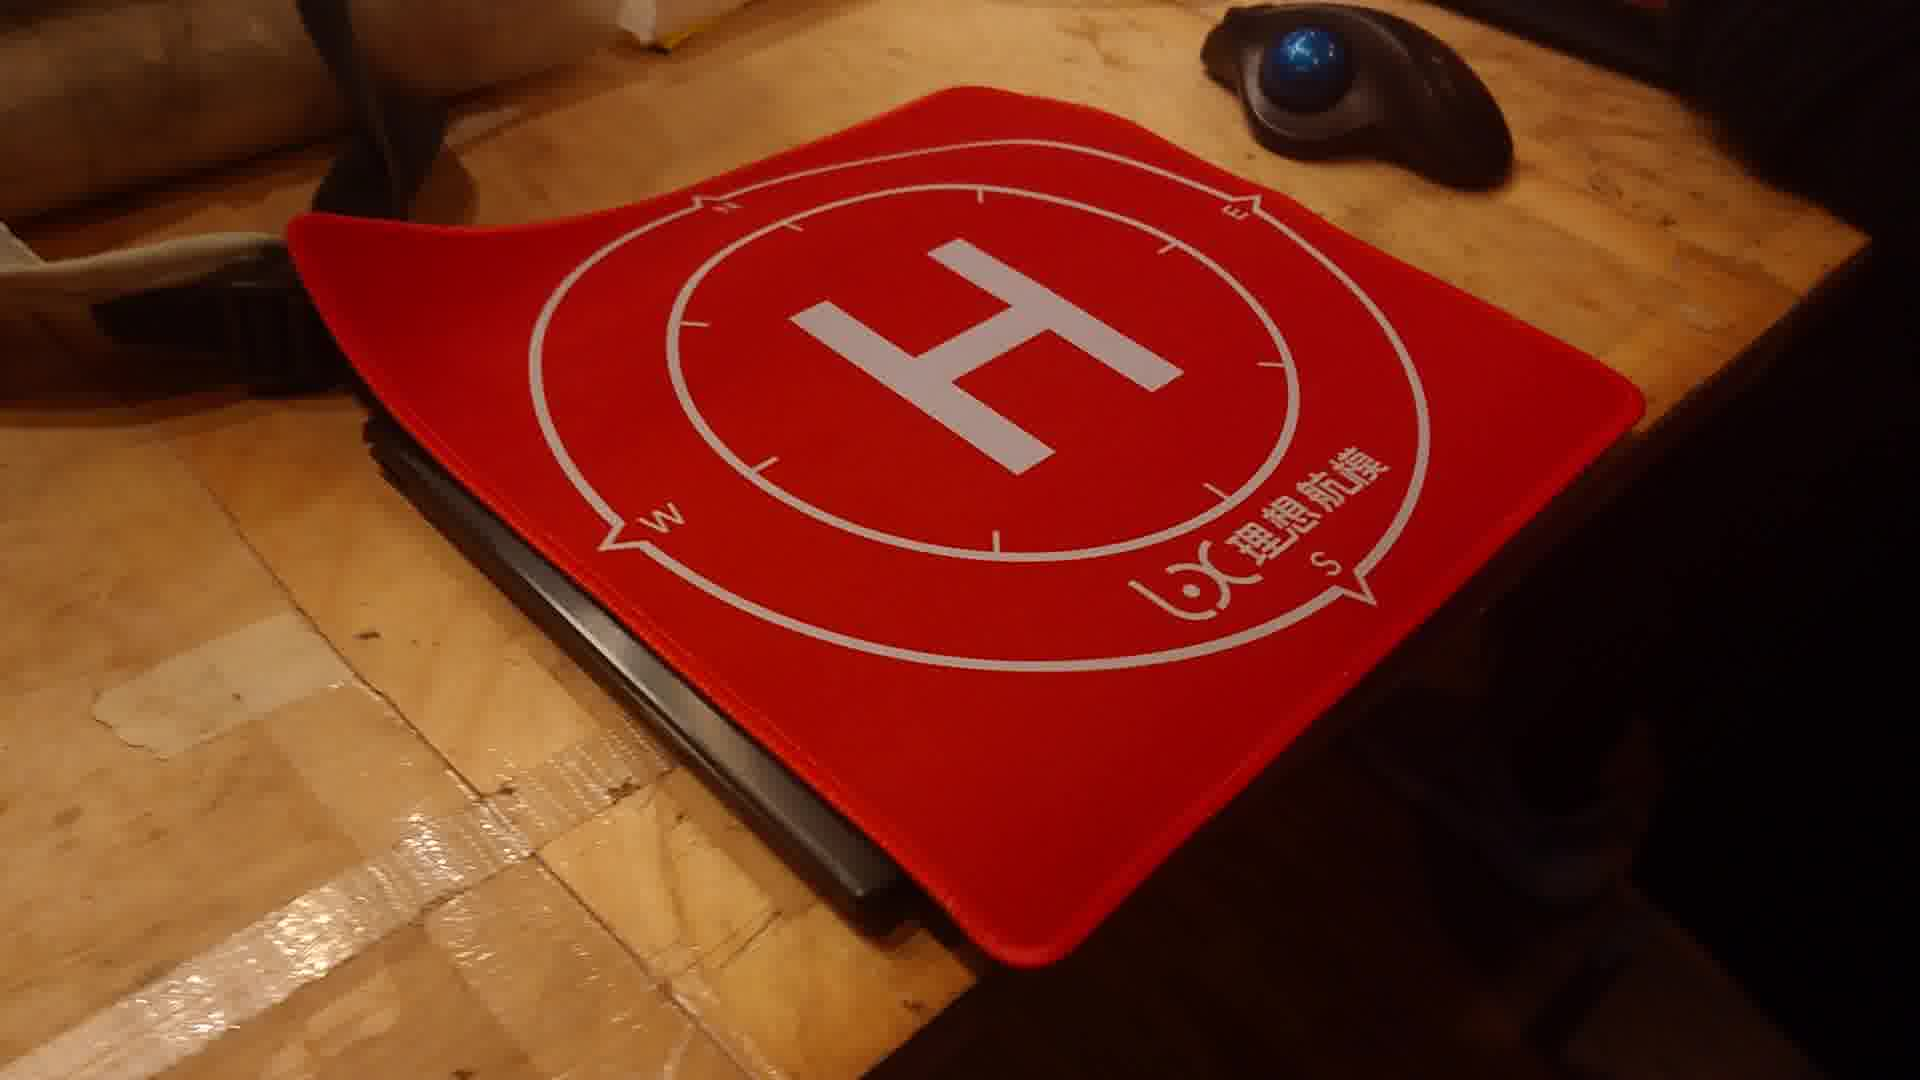H: (786, 239, 1188, 477)
